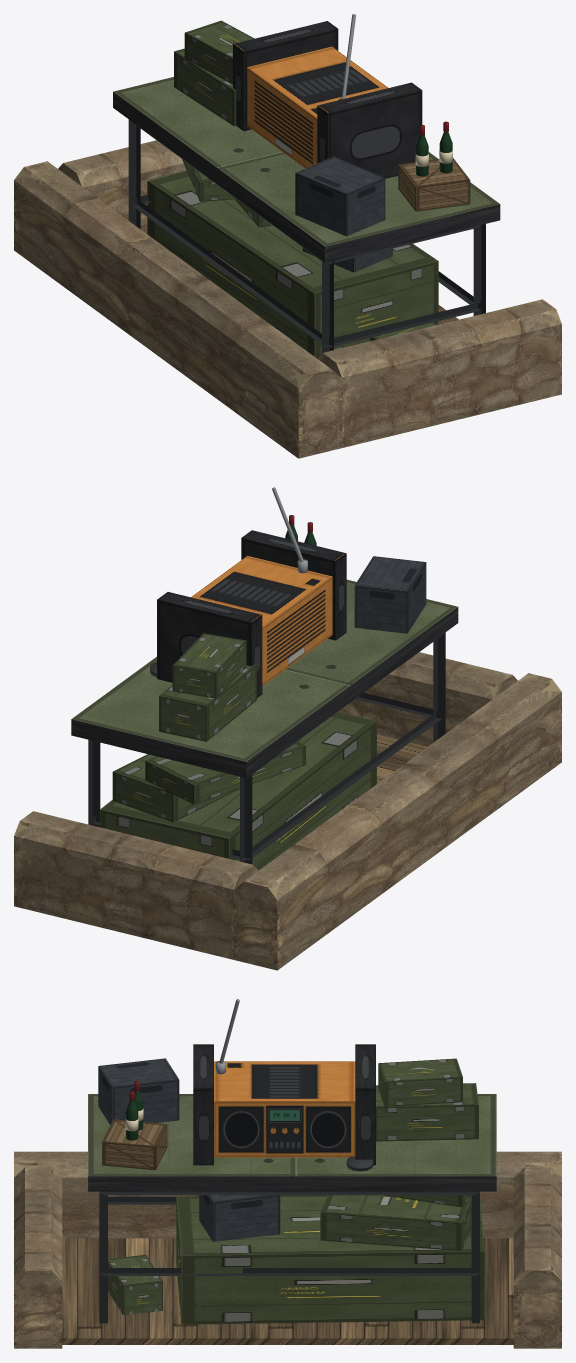
File: radio.glb
3 renders of one model, top to bottom at view 1: azimuth 30°, elevation 25°; view 2: azimuth 150°, elevation 25°; view 3: azimuth 270°, elevation 25°, orthographic. The views are drawn at different scales.
Parts seen in each view (by area): view 1: SM_Buildable_Radio_Stage5_Nanite; view 2: SM_Buildable_Radio_Stage5_Nanite; view 3: SM_Buildable_Radio_Stage5_Nanite.
Part boxes in pixels (bbox=[...]): SM_Buildable_Radio_Stage5_Nanite: bbox=[14, 14, 561, 458]; SM_Buildable_Radio_Stage5_Nanite: bbox=[14, 487, 561, 970]; SM_Buildable_Radio_Stage5_Nanite: bbox=[14, 999, 561, 1348].
Size of the model in its own units: 1.7 by 1.96 by 3.18.
9 materials, 3 textured.
